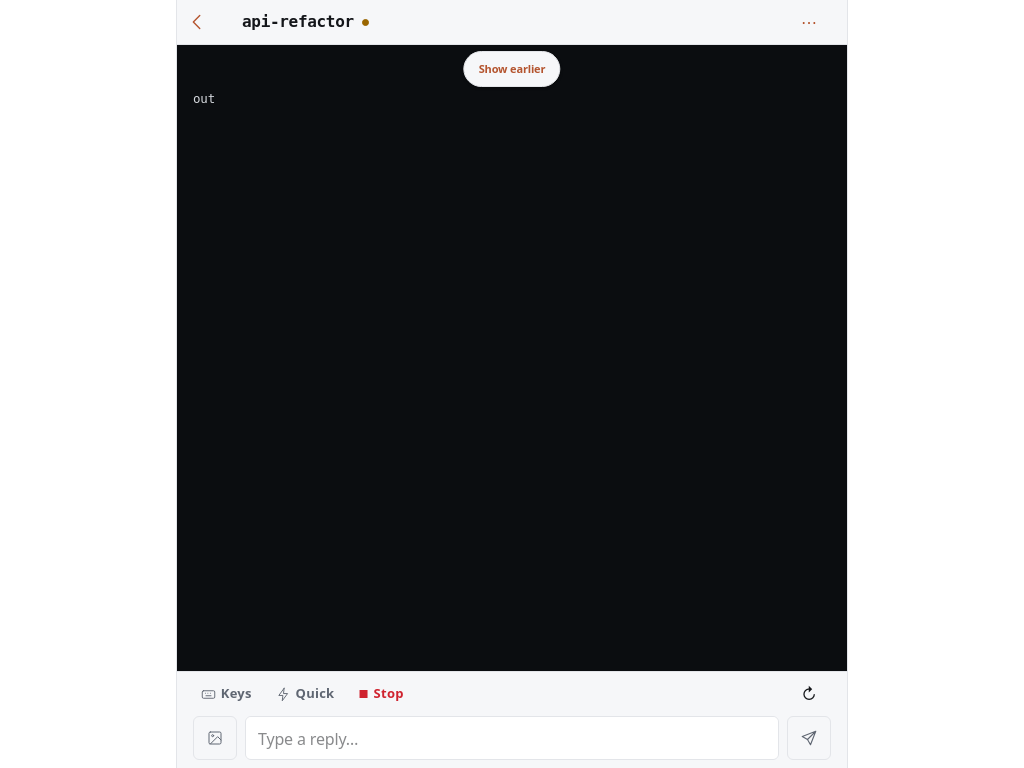
Test: an agent with a journal fetches earlier lines instead of reading the cache
Click the button with class "term-earlier": point(512, 69) 463,51 -> 561,87
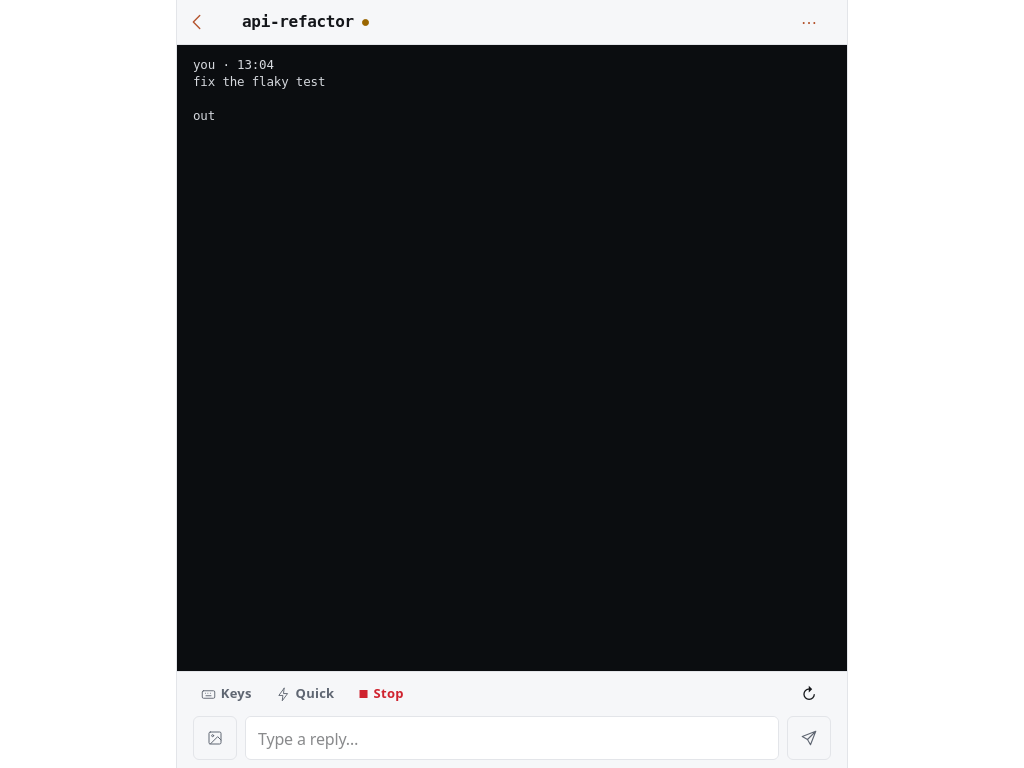
Check: the text "fix the flaky test" is shown, box 193,74 -> 325,89
